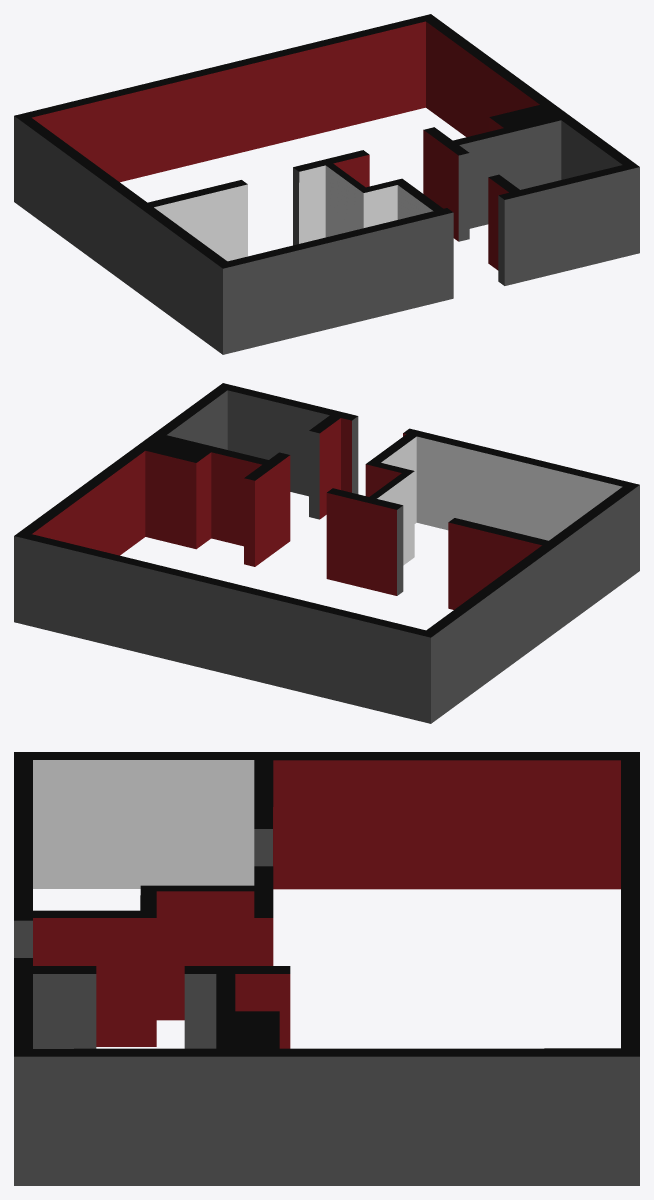
Rendered from ParedesHome.fbx.
The picture shows the model from 3 angles, top to bottom: view 1: azimuth 30°, elevation 25°; view 2: azimuth 150°, elevation 25°; view 3: azimuth 270°, elevation 25°; orthographic projection. The views are drawn at different scales.
Parts seen in each view (by area): view 1: Box128; view 2: Box128; view 3: Box128.
Part boxes in pixels (left/top/right/bottom): Box128: left=14, top=14, right=639, bottom=354; Box128: left=14, top=383, right=639, bottom=723; Box128: left=14, top=752, right=639, bottom=1185.
Bounding box in the file's own units: 1140 × 225 × 990.
